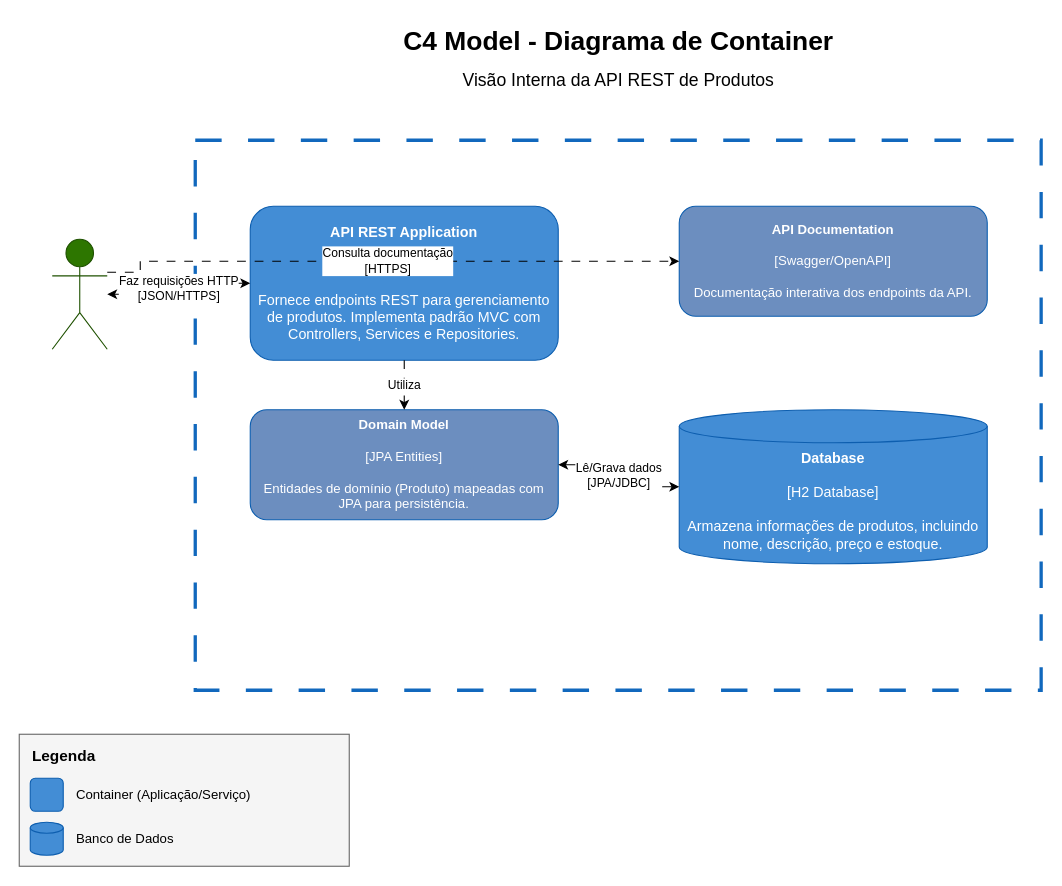
Some shapes in this 1062 by 886 pixel diagram are drawn without their labels. Here are the shapes that lost their labels. From the top down, the box of each, then its label:
(51, 238, 107, 349): Parceiros/Admins [Pessoa]
(193, 138, 1042, 691): API REST Produtos [Software System]
